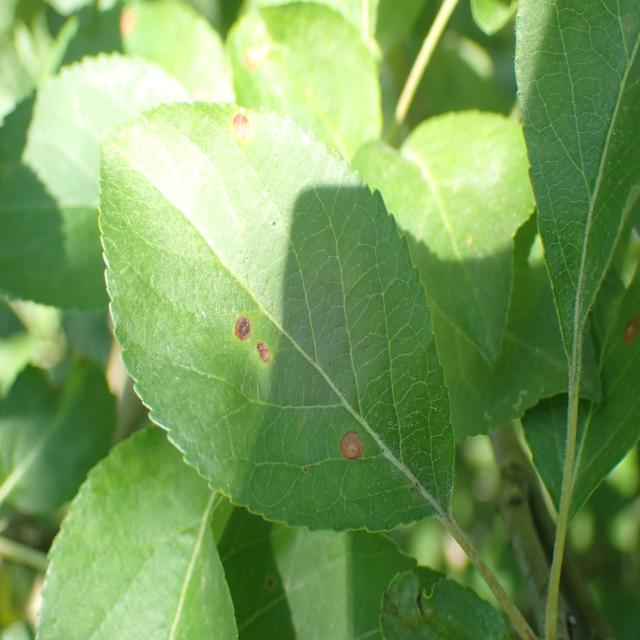Black Rot: (212, 289, 257, 358), (225, 94, 267, 164), (330, 425, 374, 484), (606, 299, 639, 368), (251, 328, 272, 381)
